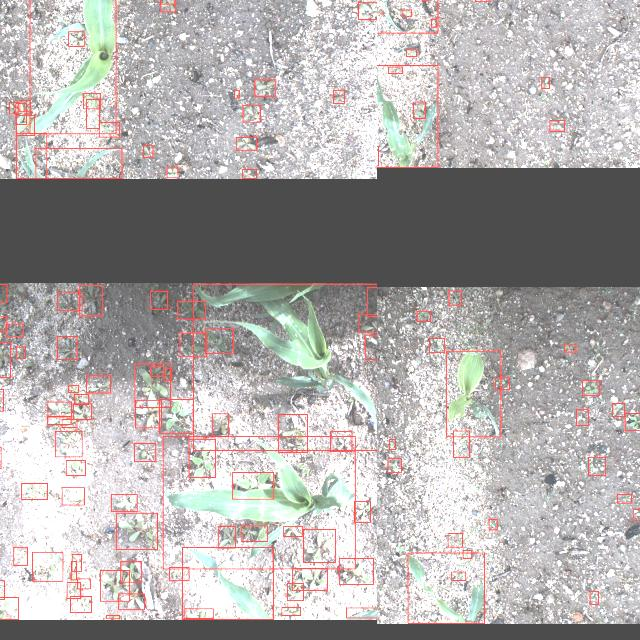crop: (192, 283, 377, 450), (162, 436, 354, 570), (29, 0, 115, 134), (182, 548, 272, 620), (377, 66, 437, 168), (406, 552, 484, 624), (446, 351, 500, 437), (35, 149, 121, 179), (16, 134, 46, 178), (345, 608, 377, 618)
weed: (134, 363, 170, 407), (116, 512, 156, 550), (158, 399, 192, 433), (277, 414, 307, 452), (232, 472, 272, 500), (188, 438, 214, 478), (303, 530, 335, 562), (338, 558, 374, 584), (32, 552, 62, 582), (100, 570, 128, 602), (292, 568, 326, 590), (204, 328, 232, 354), (135, 400, 161, 428), (78, 285, 102, 315), (54, 432, 82, 456), (179, 332, 205, 356), (177, 301, 205, 319), (56, 292, 82, 310), (110, 494, 136, 512), (56, 336, 76, 359), (329, 431, 351, 451), (118, 594, 144, 610), (21, 483, 47, 499), (453, 431, 469, 457), (120, 562, 140, 582), (133, 443, 155, 461), (86, 376, 110, 392), (242, 526, 266, 542), (218, 526, 235, 548), (0, 598, 17, 620), (85, 100, 98, 128), (16, 115, 34, 135), (357, 2, 377, 20), (98, 122, 120, 138), (254, 80, 276, 96), (212, 414, 228, 436), (61, 488, 83, 504), (0, 342, 10, 377), (358, 314, 377, 332), (47, 402, 71, 416), (149, 291, 167, 309), (353, 502, 369, 522), (65, 460, 85, 476), (70, 597, 90, 613), (588, 456, 604, 476), (366, 287, 377, 316), (364, 335, 377, 359), (82, 93, 100, 109), (242, 106, 260, 122), (73, 403, 91, 419), (169, 567, 189, 581), (184, 609, 212, 619), (624, 413, 640, 430), (287, 584, 303, 600), (582, 380, 598, 396), (13, 547, 27, 565), (236, 138, 256, 150), (68, 32, 84, 46), (66, 583, 80, 599), (446, 533, 462, 547), (428, 338, 444, 352), (15, 104, 25, 125), (5, 324, 22, 336), (282, 526, 302, 536), (387, 458, 401, 472), (413, 102, 425, 118), (548, 120, 564, 132), (47, 416, 71, 424), (576, 409, 588, 425), (448, 290, 460, 306), (71, 554, 81, 572), (495, 377, 509, 389), (159, 0, 174, 11), (280, 608, 300, 616), (332, 90, 343, 104), (612, 404, 624, 416), (76, 579, 90, 589), (74, 394, 88, 404), (617, 494, 631, 504), (416, 311, 430, 321), (19, 100, 29, 112), (8, 102, 18, 114), (166, 168, 178, 178), (142, 146, 152, 158), (150, 366, 162, 376), (242, 170, 256, 178), (387, 66, 401, 74), (62, 419, 76, 427), (451, 572, 465, 580), (0, 284, 6, 302), (70, 562, 76, 580), (16, 346, 24, 358), (564, 344, 576, 352), (589, 592, 597, 604), (541, 78, 549, 89), (632, 509, 640, 520), (0, 316, 6, 330), (163, 368, 170, 380), (462, 551, 472, 559), (488, 520, 496, 530), (0, 580, 4, 599), (401, 10, 411, 16), (406, 50, 416, 56), (68, 386, 78, 392), (389, 439, 395, 449), (105, 615, 118, 619), (430, 19, 436, 27), (159, 0, 173, 3), (234, 90, 238, 98)
